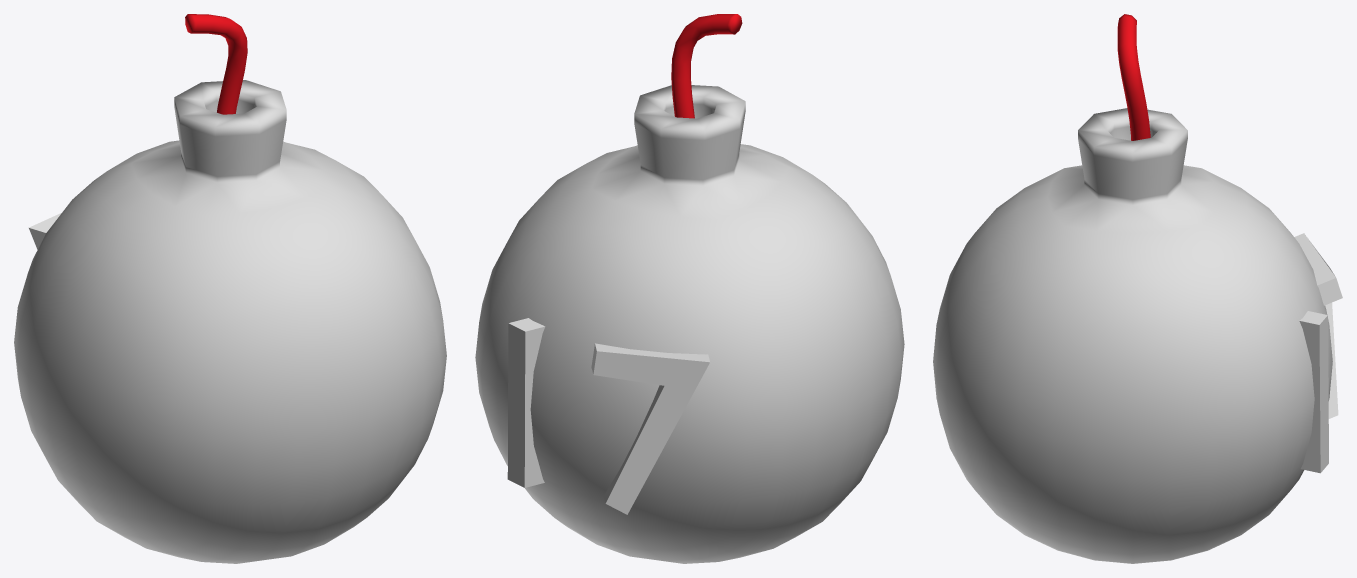
Rendered from Bomb_trial.fbx.
3 renders of one model, left to right at view 1: azimuth 30°, elevation 25°; view 2: azimuth 150°, elevation 25°; view 3: azimuth 270°, elevation 25°, orthographic. The views are drawn at different scales.
Parts seen in each view (by area): view 1: Bomb; view 2: Bomb, Testo; view 3: Bomb, Testo.
Part boxes in pixels (bbox=[...]): Bomb: bbox=[14, 14, 446, 563]; Bomb: bbox=[475, 14, 904, 563]; Testo: bbox=[507, 318, 709, 514]; Bomb: bbox=[933, 14, 1332, 563]; Testo: bbox=[1294, 233, 1342, 473].
Size of the model in its own units: 30 by 42.11 by 30.76.
